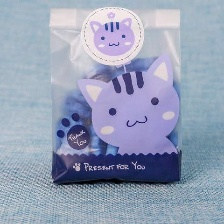snack: (37, 0, 189, 189)
